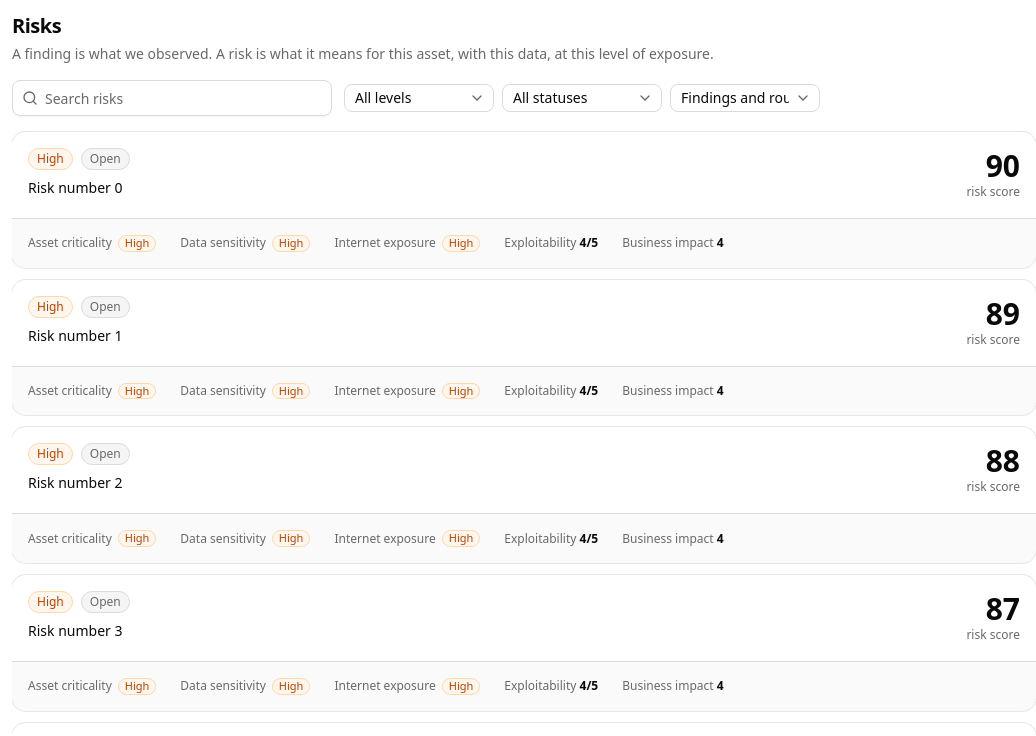
Test: the risk ranking › offers UNKNOWN as a level, because the engine really assigns it
Click the dropdown named "Filter by risk level": (419, 98) [344,84,494,112]
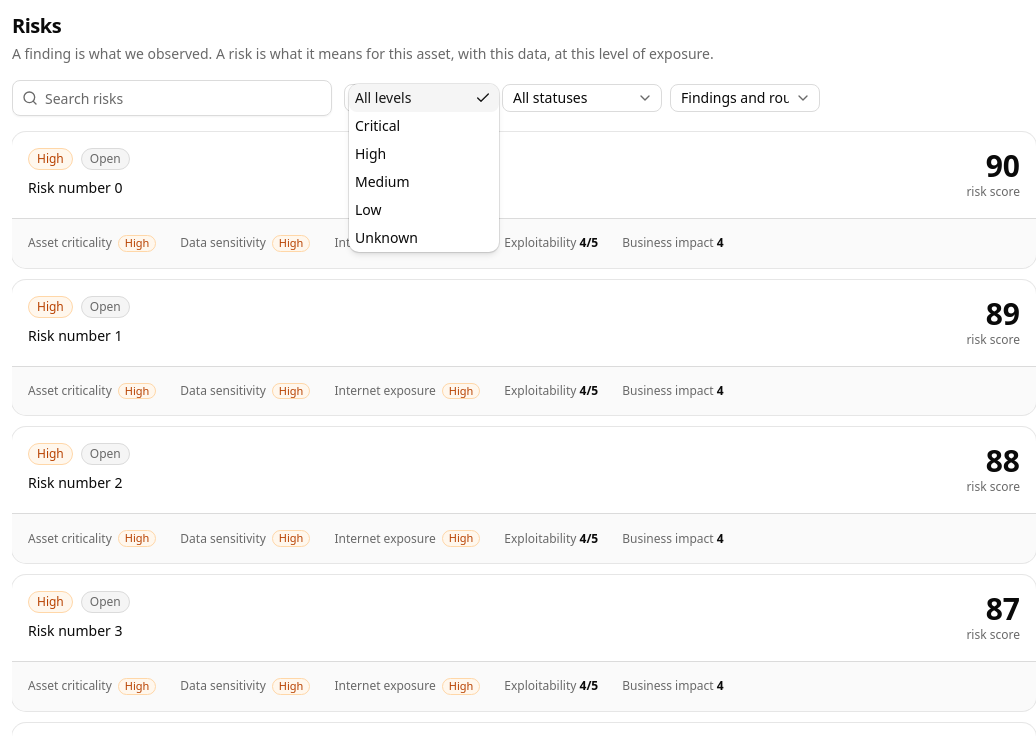
Expected: the option "Unknown" is shown, [355,228,418,247]
